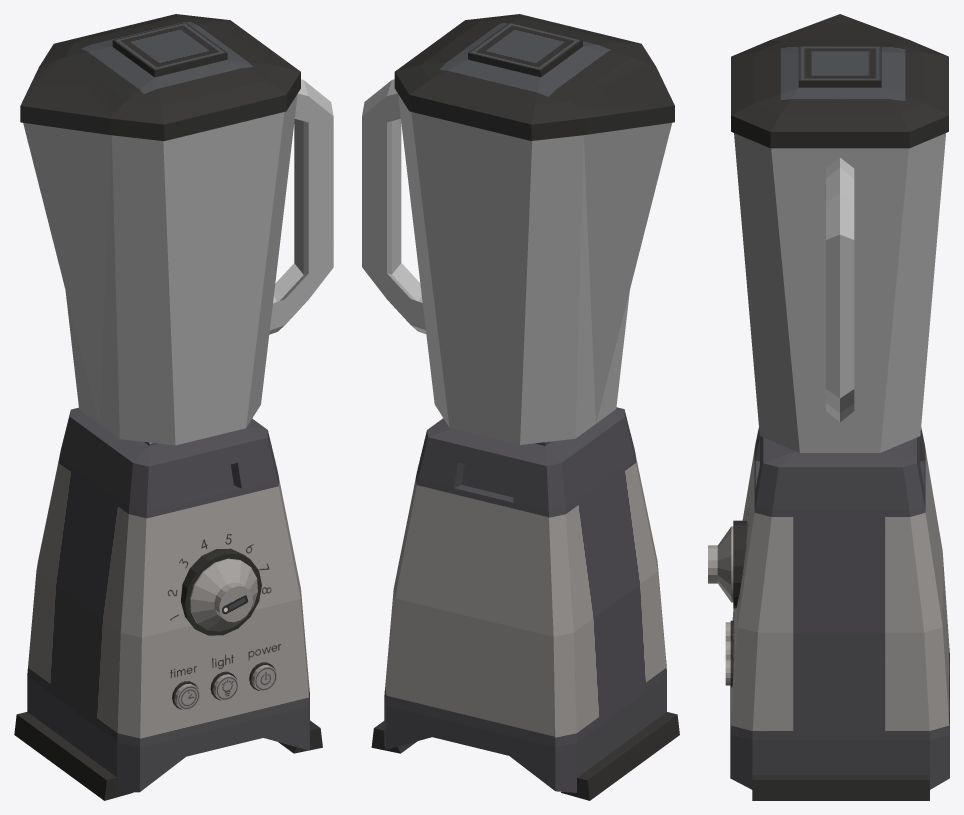
Rendered from e074fa4f-8d78-46fc-adf7-754fef53a433.glb.
3 views of the same model, side by side, from view 1: azimuth 30°, elevation 25°; view 2: azimuth 150°, elevation 25°; view 3: azimuth 270°, elevation 25° (orthographic).
Visible parts, largest first — view 1: Blender, Bowl, Blender_Cap, a; view 2: Blender, Bowl, Blender_Cap; view 3: Blender, Bowl, Blender_Cap, a.
Part boxes in pixels (x1,y1,x2,y2): Blender: [14, 407, 322, 800]; Bowl: [23, 79, 333, 445]; Blender_Cap: [20, 14, 300, 141]; a: [189, 558, 257, 631]; Blender: [371, 407, 679, 800]; Bowl: [362, 79, 671, 444]; Blender_Cap: [394, 14, 674, 140]; Blender: [725, 427, 949, 800]; Bowl: [734, 133, 945, 452]; Blender_Cap: [731, 14, 948, 148]; a: [708, 526, 733, 602].
Size of the model in its own units: 161 by 344 by 110.
Materials: 2 (1 with a texture image).
